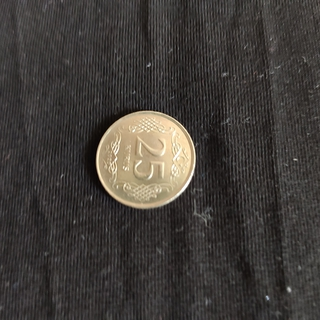25KURUS: (94, 109, 196, 211)
